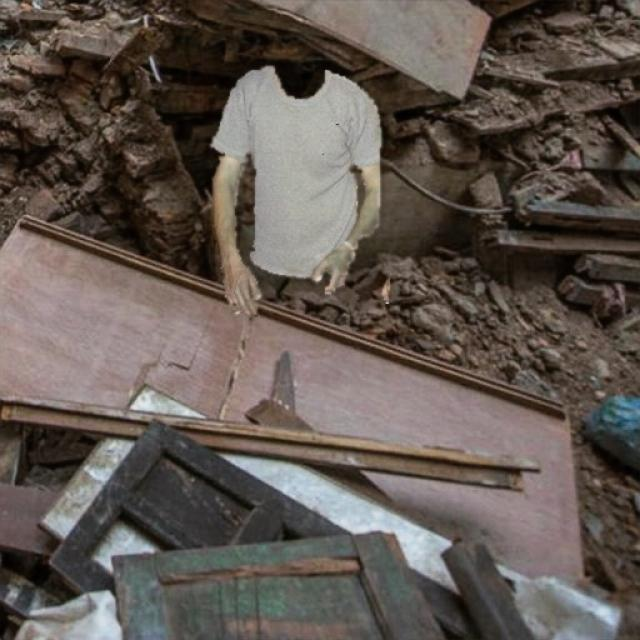Person in Rubble: (210, 66, 389, 315)
